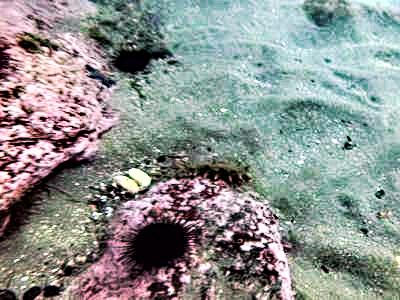urchin: (121, 219, 193, 273), (111, 48, 145, 68)
